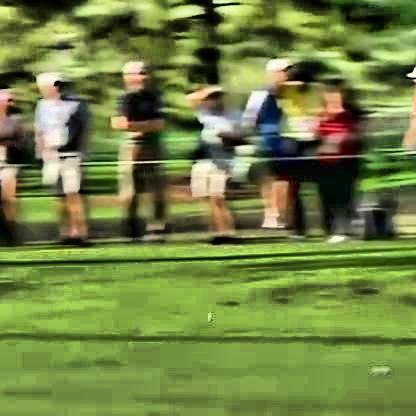golfball: (204, 306, 209, 317)
